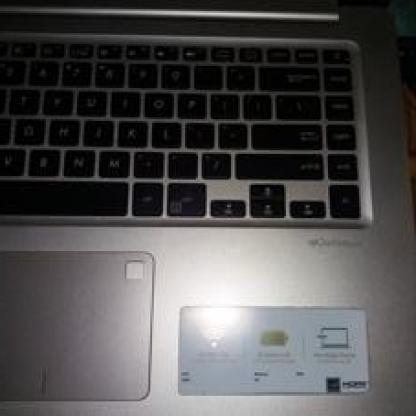keyboard: (0, 24, 393, 261)
